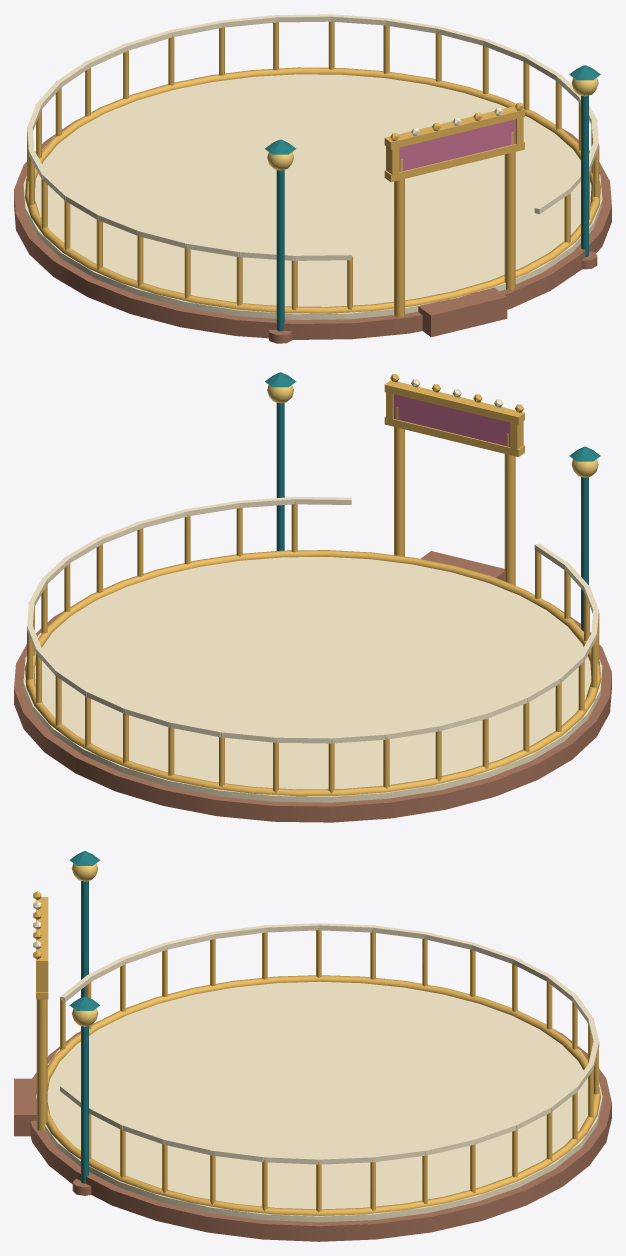
File: ride_teacups.glb
The picture shows the model from 3 angles, top to bottom: view 1: azimuth 30°, elevation 25°; view 2: azimuth 150°, elevation 25°; view 3: azimuth 270°, elevation 25°; orthographic projection. The views are drawn at different scales.
Visible parts, largest first — view 1: ride_teacups; view 2: ride_teacups; view 3: ride_teacups.
Boxes of the visible parts, x1,y1,x2,y2 form: ride_teacups: (14, 14, 611, 343); ride_teacups: (14, 372, 611, 822); ride_teacups: (14, 851, 611, 1241).
Size of the model in its own units: 7.5 by 2.78 by 7.66.
